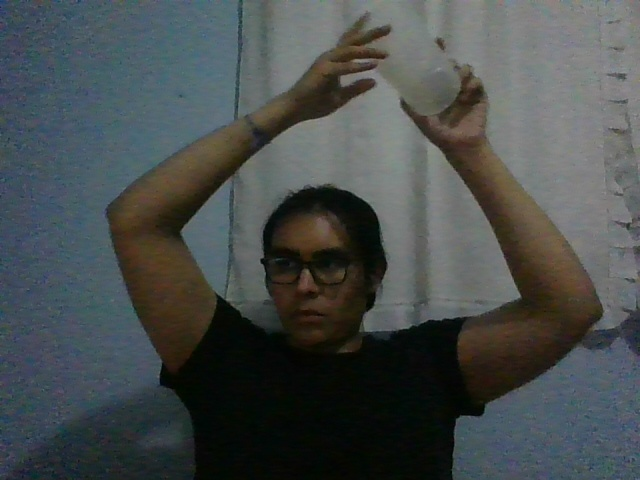vaso: (349, 1, 462, 117)
